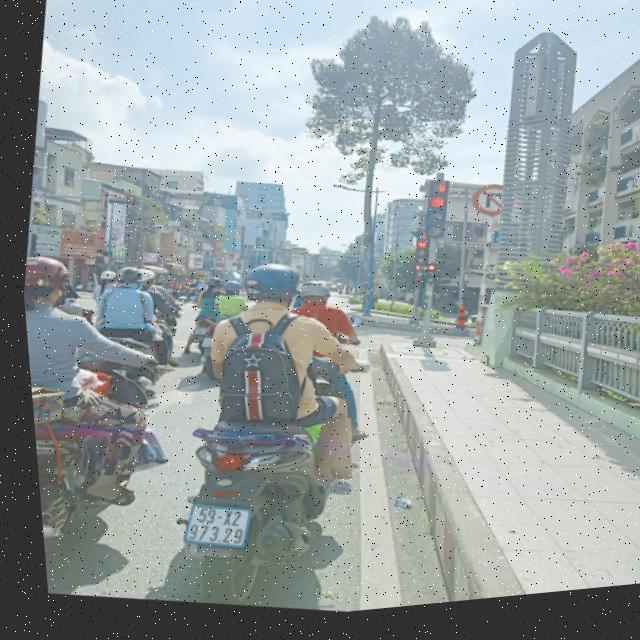Red: (415, 200, 451, 253), (417, 270, 436, 297)
